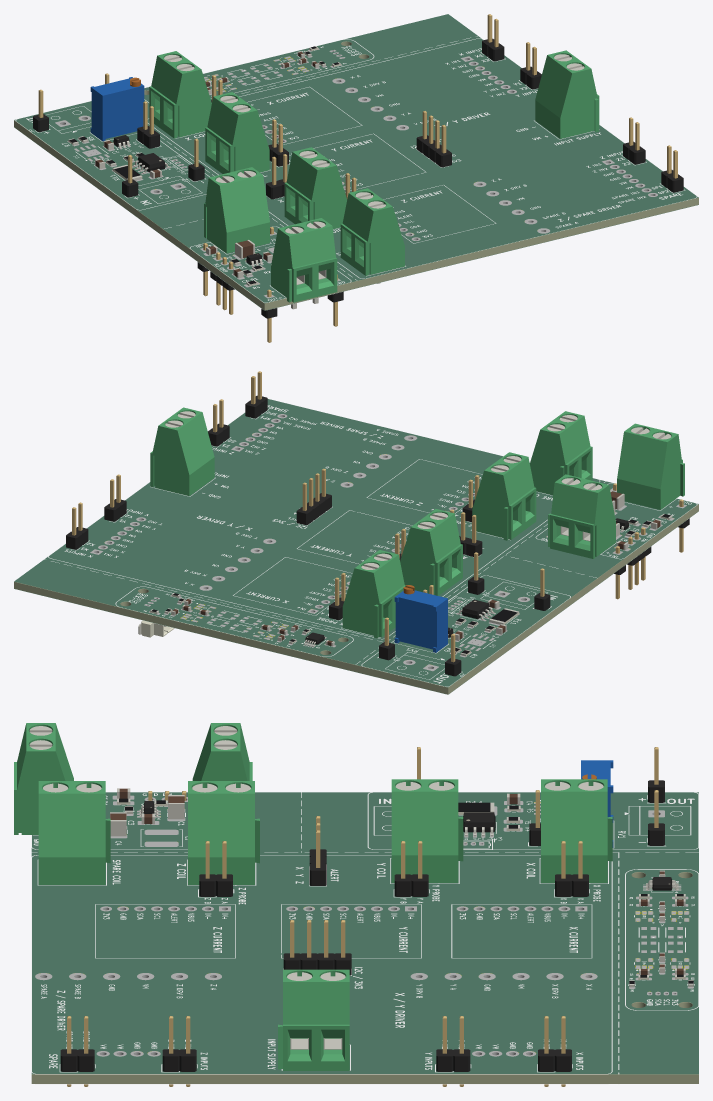
The model's file is board.glb.
3 views of the same model, one above another, from view 1: azimuth 30°, elevation 25°; view 2: azimuth 150°, elevation 25°; view 3: azimuth 270°, elevation 25° (orthographic). The views are drawn at different scales.
Visible parts, largest first — view 1: =>[0:1:1:39], =>[0:1:1:21] (×7), =>[0:1:1:37], =>[0:1:1:41], =>[0:1:1:5] (×6), =>[0:1:1:35], =>[0:1:1:19], =>[0:1:1:31] (×2), =>[0:1:1:3]; view 2: =>[0:1:1:39], =>[0:1:1:21] (×7), =>[0:1:1:37], =>[0:1:1:41], =>[0:1:1:35], =>[0:1:1:5] (×5), =>[0:1:1:19], =>[0:1:1:31] (×2), =>[0:1:1:3], =>[0:1:1:40]; view 3: =>[0:1:1:39], =>[0:1:1:21] (×7), =>[0:1:1:37], =>[0:1:1:5] (×7), =>[0:1:1:41], =>[0:1:1:35], =>[0:1:1:3], =>[0:1:1:19], =>[0:1:1:31], =>[0:1:1:29], =>[0:1:1:38].
Part boxes in pixels (x1,y1,x2,y2): =>[0:1:1:39]: [14, 14, 698, 303]; =>[0:1:1:21] (×7): [149, 50, 599, 309]; =>[0:1:1:37]: [15, 36, 697, 302]; =>[0:1:1:41]: [14, 41, 698, 310]; =>[0:1:1:5] (×6): [137, 14, 683, 192]; =>[0:1:1:35]: [55, 48, 657, 298]; =>[0:1:1:19]: [90, 77, 144, 141]; =>[0:1:1:31] (×2): [210, 154, 287, 314]; =>[0:1:1:3]: [416, 111, 451, 167]; =>[0:1:1:39]: [14, 399, 698, 687]; =>[0:1:1:21] (×7): [150, 407, 684, 638]; =>[0:1:1:37]: [44, 399, 697, 686]; =>[0:1:1:41]: [14, 429, 698, 694]; =>[0:1:1:35]: [90, 414, 686, 671]; =>[0:1:1:5] (×5): [66, 371, 345, 620]; =>[0:1:1:19]: [394, 585, 447, 652]; =>[0:1:1:31] (×2): [450, 509, 651, 589]; =>[0:1:1:3]: [296, 468, 331, 525]; =>[0:1:1:40]: [14, 511, 698, 694]; =>[0:1:1:39]: [31, 792, 698, 1074]; =>[0:1:1:21] (×7): [14, 723, 612, 1070]; =>[0:1:1:37]: [31, 792, 698, 1074]; =>[0:1:1:5] (×7): [60, 841, 588, 1086]; =>[0:1:1:41]: [31, 816, 698, 1083]; =>[0:1:1:35]: [35, 795, 693, 1056]; =>[0:1:1:3]: [283, 920, 351, 975]; =>[0:1:1:19]: [581, 760, 613, 847]; =>[0:1:1:31]: [309, 816, 326, 885]; =>[0:1:1:29]: [463, 812, 495, 836]; =>[0:1:1:38]: [35, 1084, 618, 1084].
Bounding box in the file's own units: 0.0999 × 0.024 × 0.1025.
